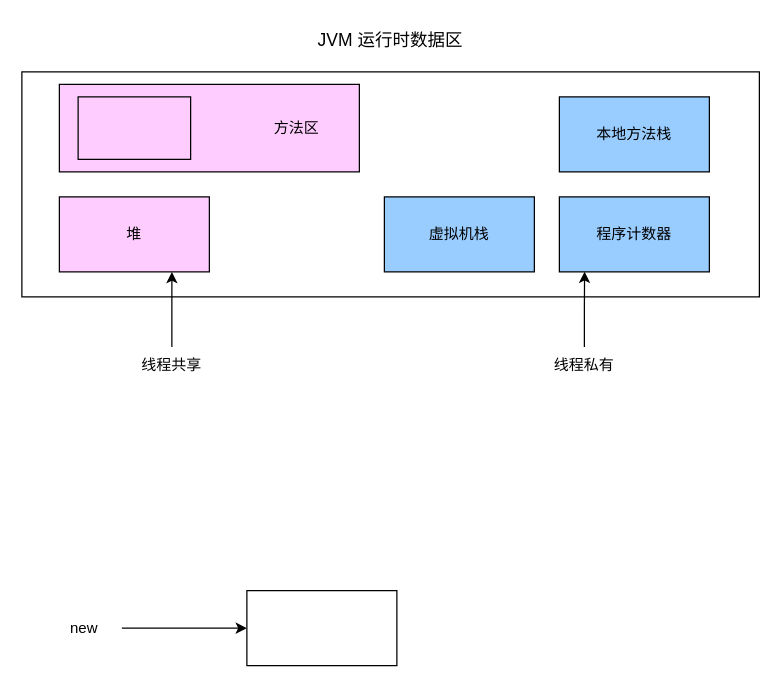
The diagram is 781 pixels wide and 688 high, and some of its shapes have lost their labels. Here are the shapes that lost their labels. From the top down, the centre of each, then its label:
the point at 134,127: 运行时常量池
the point at 321,627: 常量池
